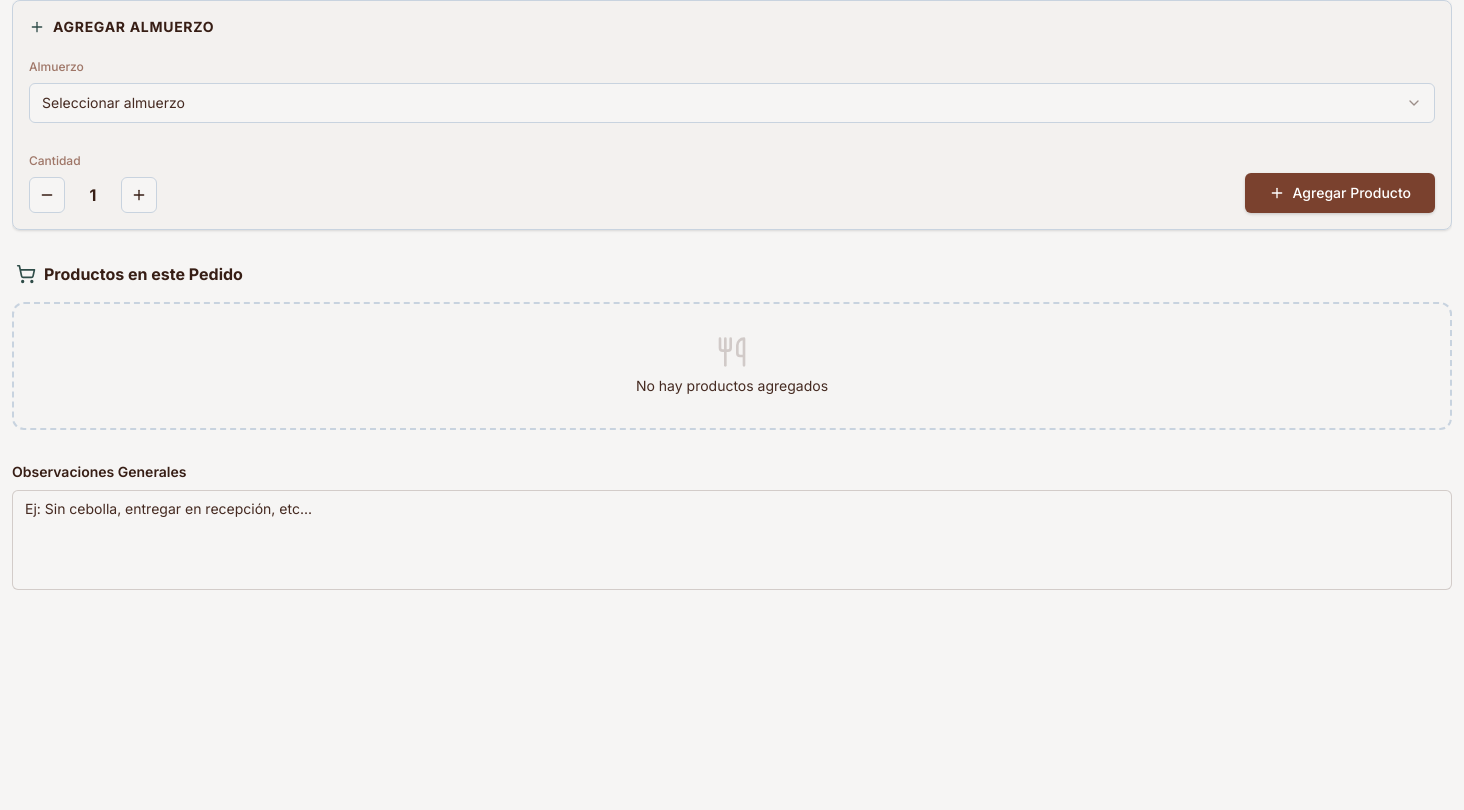
Test: OrderFormFields › filtra opciones de menu para otros tipos de almuerzo
The image size is (1464, 810).
// Seleccionamos Ejecutivo Sin Sopa
Click the dropdown at coordinates (113, 102), box [29,83,1435,123]
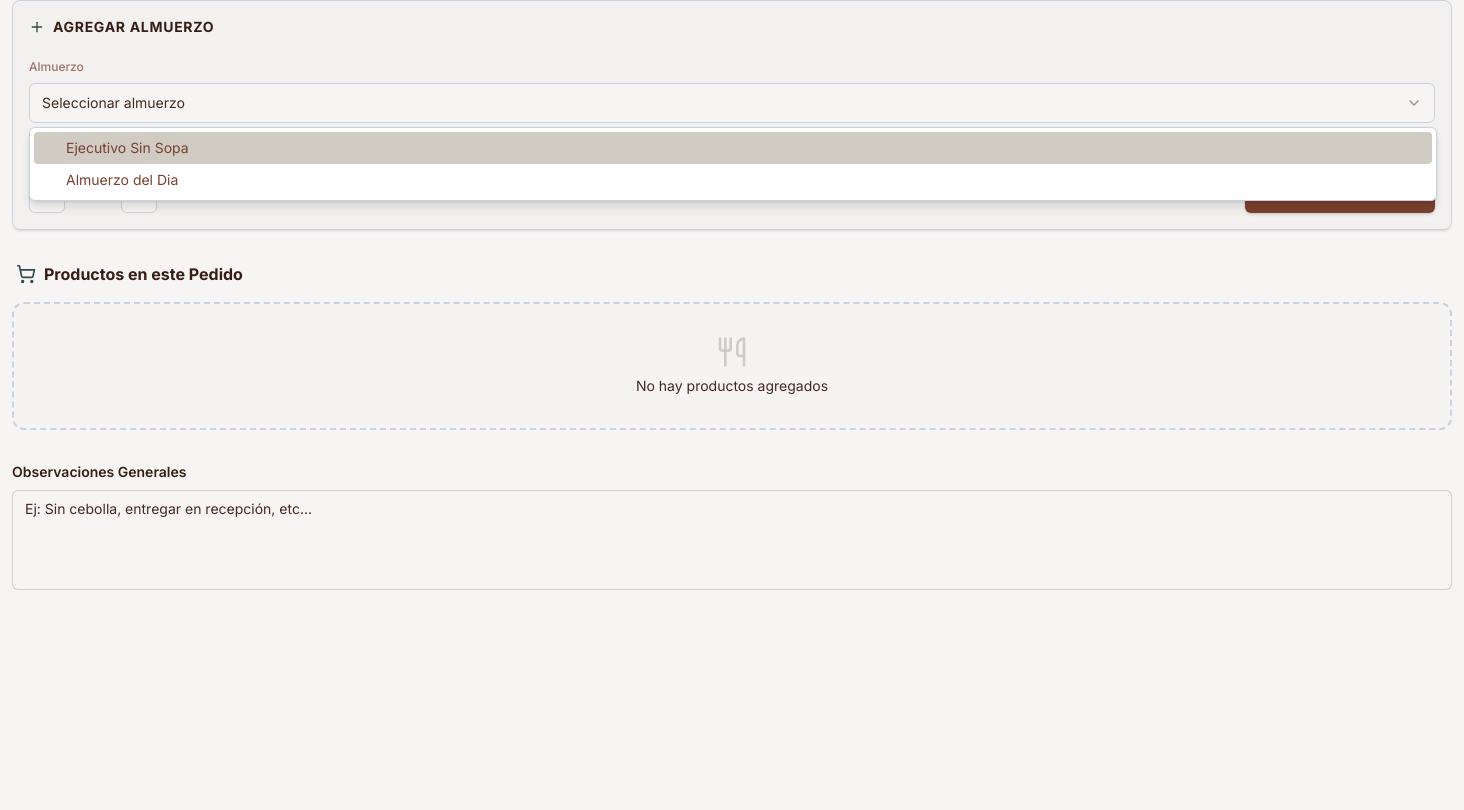
Click the option "Ejecutivo Sin Sopa" at coordinates (127, 148), box [34,132,1432,164]
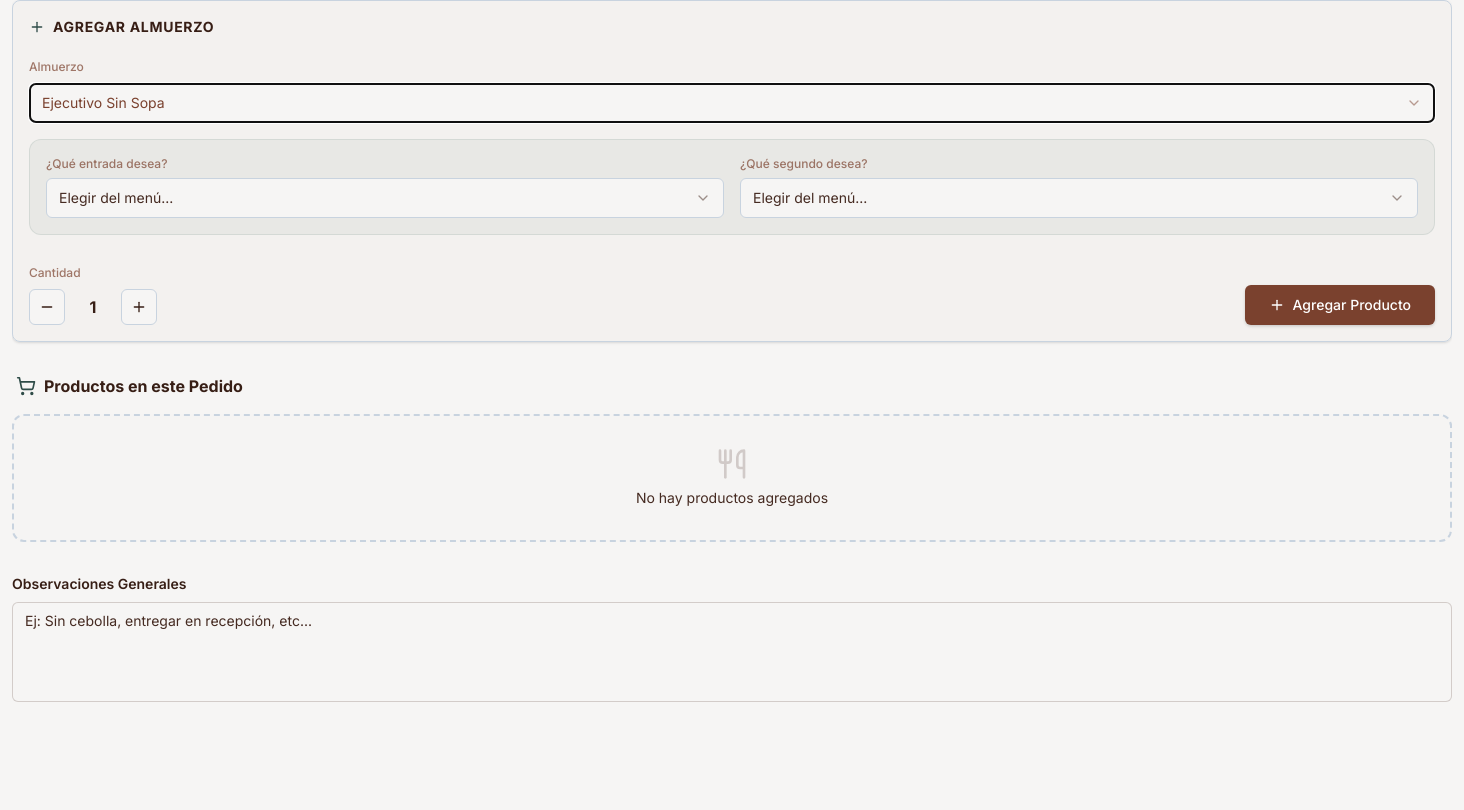
Expected: the text "¿Qué segundo desea?" is shown, [740,156,868,172]
Expected: the text "¿Qué entrada desea?" is shown, [46,156,168,172]
